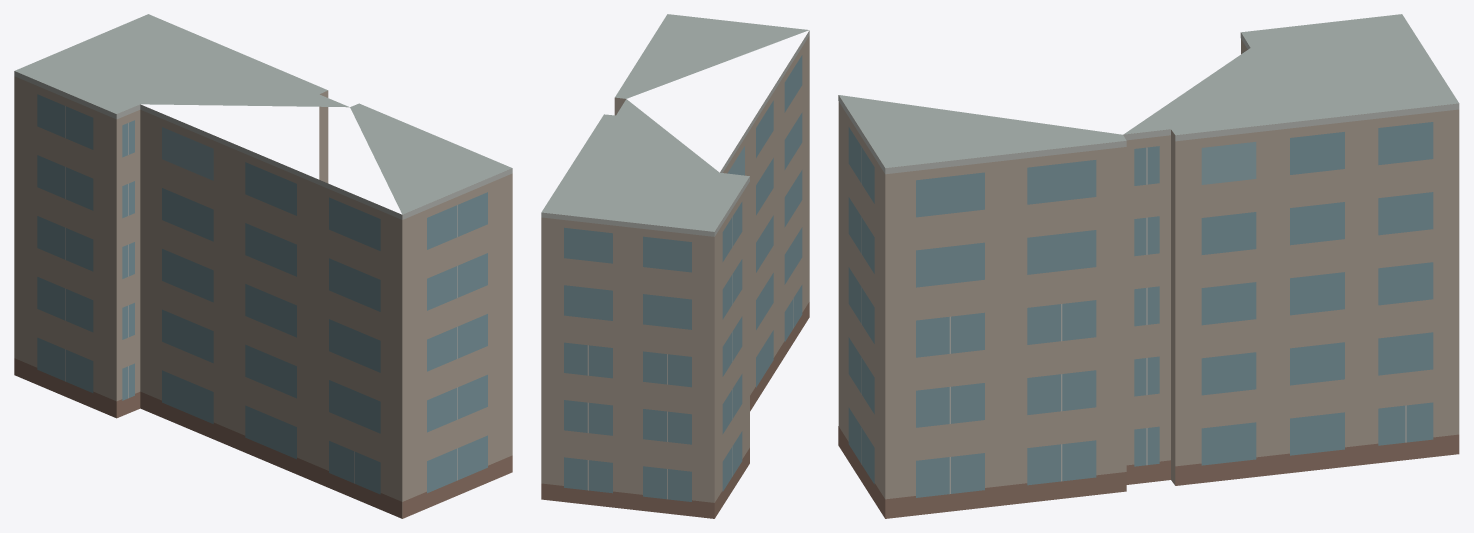
The model's file is survey-upis-32710427.glb.
The picture shows the model from 3 angles, left to right: view 1: azimuth 30°, elevation 25°; view 2: azimuth 150°, elevation 25°; view 3: azimuth 270°, elevation 25°; orthographic projection. The views are drawn at different scales.
Parts seen in each view (by area): view 1: survey-upis-32710427.tmp; view 2: survey-upis-32710427.tmp; view 3: survey-upis-32710427.tmp.
Boxes of the visible parts, box(x1,y1,x2,y2) form: survey-upis-32710427.tmp: box(14, 14, 512, 518); survey-upis-32710427.tmp: box(541, 14, 809, 518); survey-upis-32710427.tmp: box(838, 14, 1459, 518).
Size of the model in its own units: 13.31 by 14.1 by 22.63.
